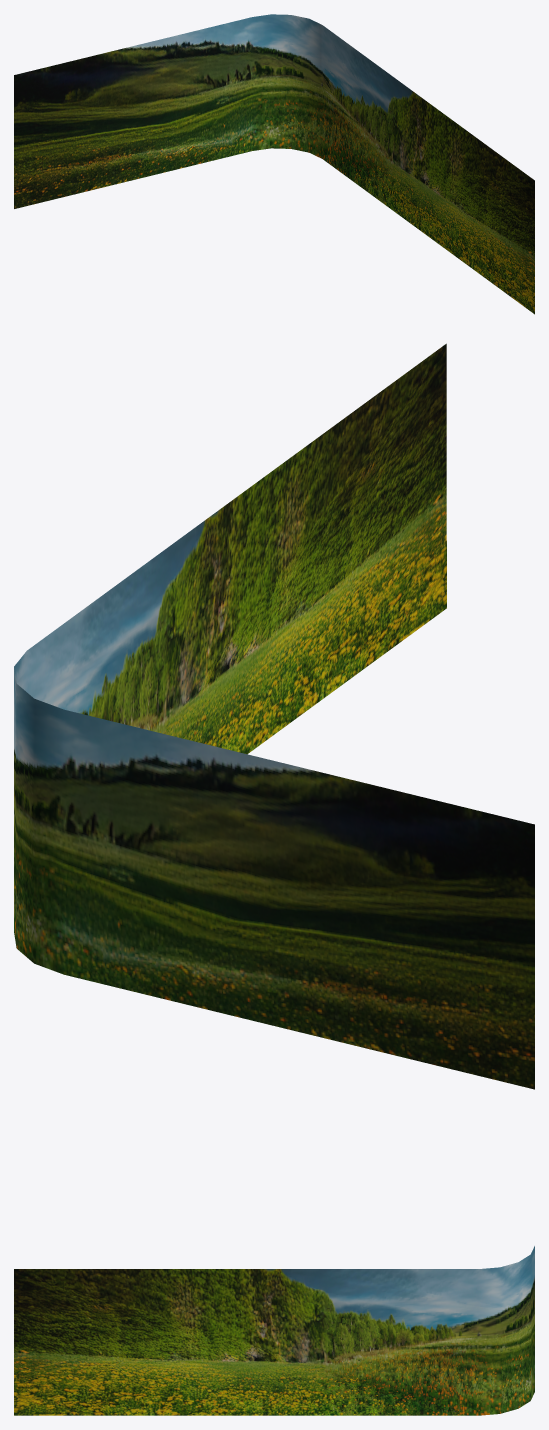
Rendered from OutDoor_AC.fbx.
3 views of the same model, one above another, from view 1: azimuth 30°, elevation 25°; view 2: azimuth 150°, elevation 25°; view 3: azimuth 270°, elevation 25° (orthographic). The views are drawn at different scales.
Parts seen in each view (by area): view 1: Out; view 2: Out; view 3: Out.
Part boxes in pixels (<box>): Out: <box>14,14,534,314</box>; Out: <box>14,343,534,1089</box>; Out: <box>14,1246,534,1415</box>.
Size of the model in its own units: 5.49 by 2.49 by 8.01.
Materials: 1 (1 with a texture image).
